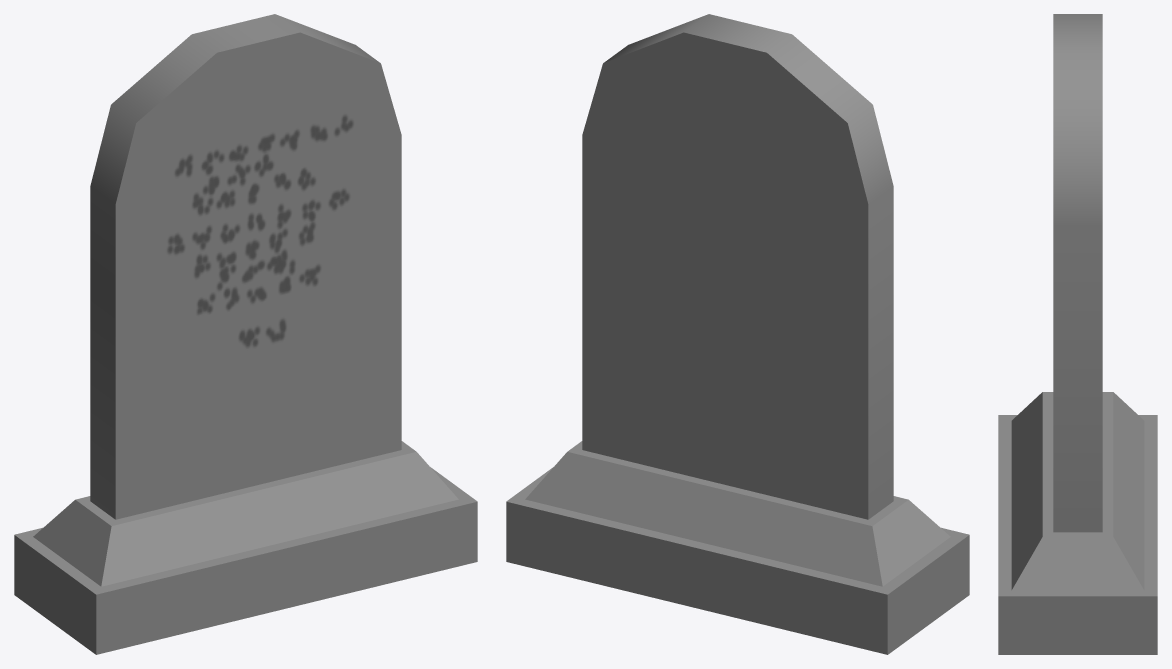
File: Tombstone 2.fbx
3 renders of one model, left to right at view 1: azimuth 30°, elevation 25°; view 2: azimuth 150°, elevation 25°; view 3: azimuth 270°, elevation 25°, orthographic. The views are drawn at different scales.
Visible parts, largest first — view 1: Tombstone 2; view 2: Tombstone 2; view 3: Tombstone 2.
Boxes of the visible parts, box(x1,y1,x2,y2) form: Tombstone 2: box(14, 14, 477, 654); Tombstone 2: box(506, 14, 969, 654); Tombstone 2: box(998, 14, 1157, 654).
Size of the model in its own units: 88.59 by 121 by 32.97.
